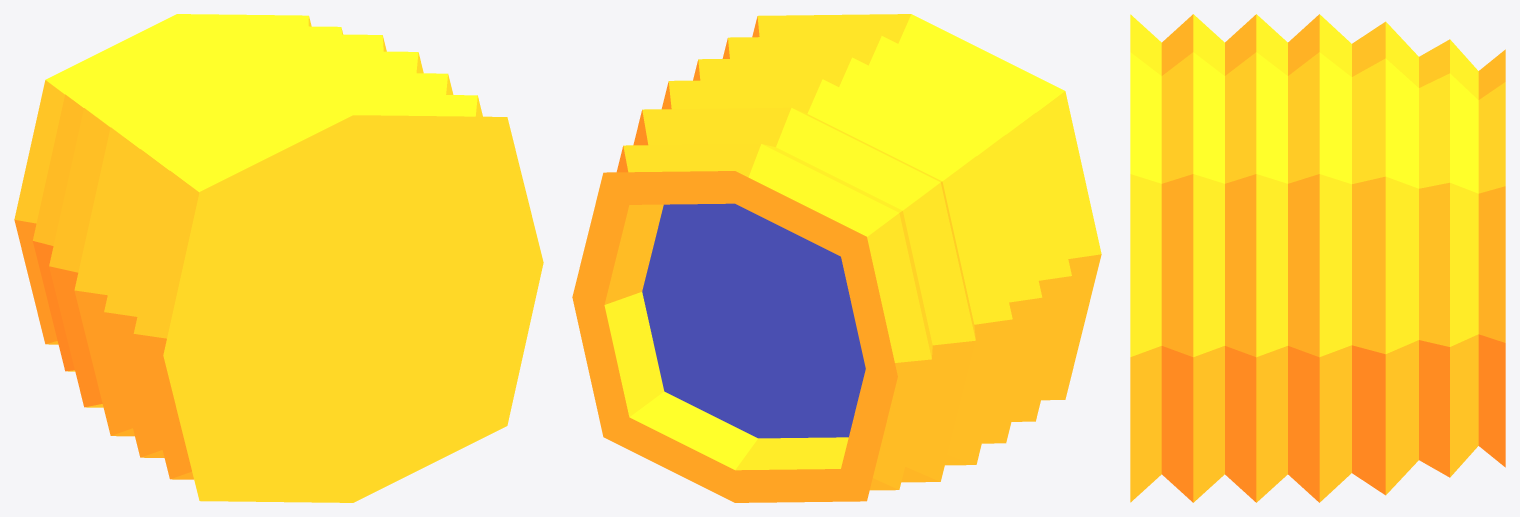
The model's file is gate 2.fbx.
The picture shows the model from 3 angles, left to right: view 1: azimuth 30°, elevation 25°; view 2: azimuth 150°, elevation 25°; view 3: azimuth 270°, elevation 25°; orthographic projection. The views are drawn at different scales.
Visible parts, largest first — view 1: Cube.053; view 2: Cube.053; view 3: Cube.053.
Part boxes in pixels (x1,y1,x2,y2): Cube.053: (14, 14, 543, 502); Cube.053: (572, 14, 1101, 502); Cube.053: (1130, 14, 1505, 502).
Bounding box in the file's own units: 455 × 443 × 365.
